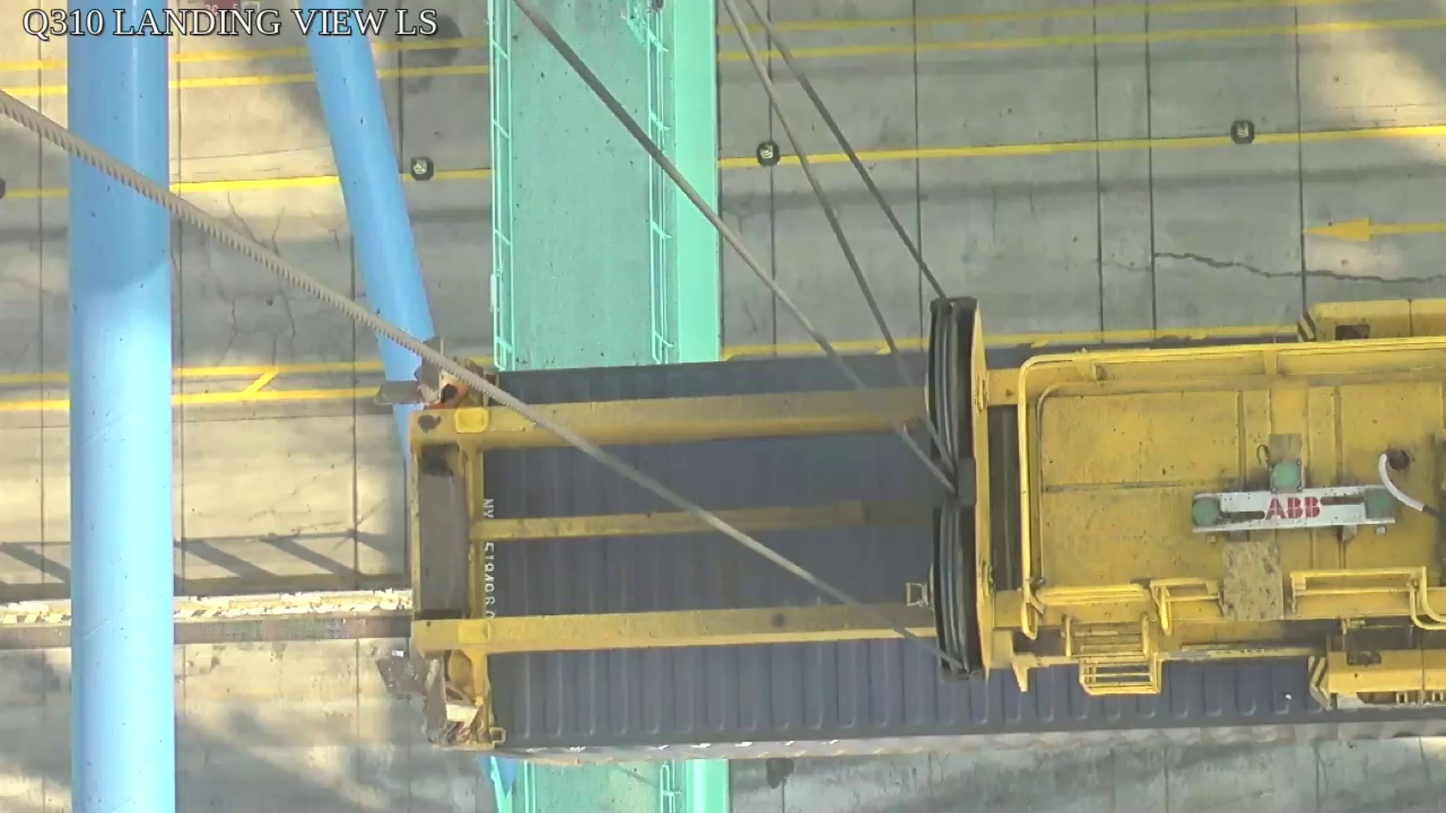aa: (925, 299, 996, 684)
